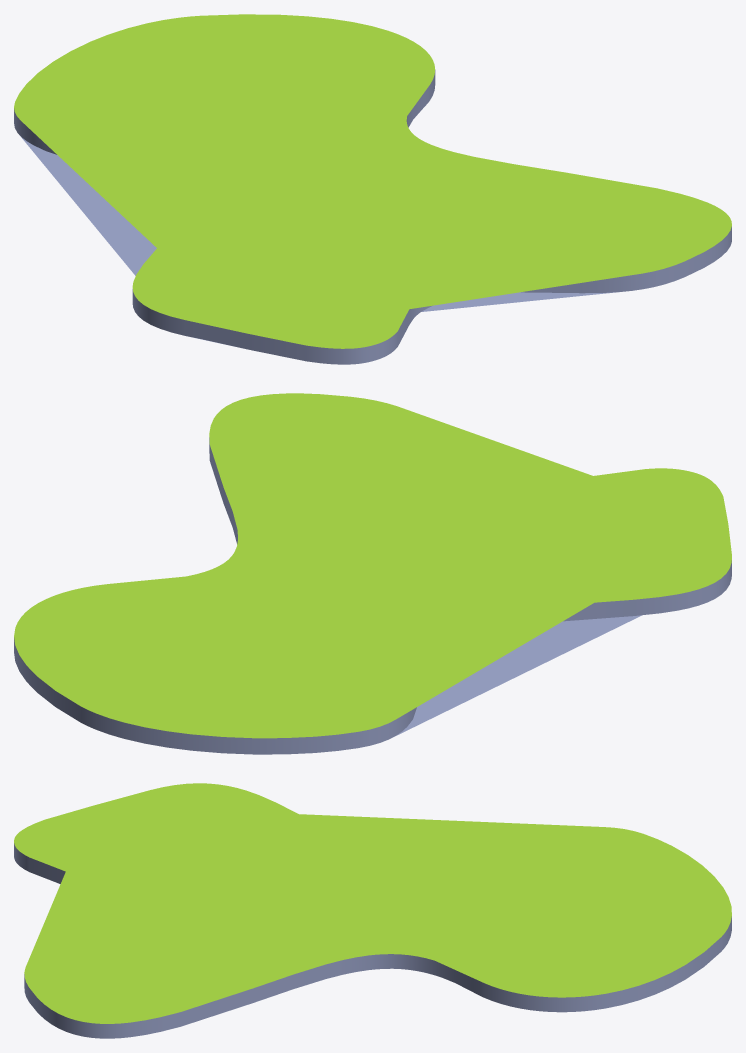
The model's file is Lastholes3.fbx.
3 renders of one model, top to bottom at view 1: azimuth 30°, elevation 25°; view 2: azimuth 150°, elevation 25°; view 3: azimuth 270°, elevation 25°, orthographic. The views are drawn at different scales.
Parts seen in each view (by area): view 1: mainRes_2; view 2: mainRes_2; view 3: mainRes_2.
Part boxes in pixels (x1,y1,x2,y2): mainRes_2: (14,14,731,364); mainRes_2: (14,393,731,754); mainRes_2: (14,783,731,1038).
Bounding box in the file's own units: 1054 × 30 × 1329.
